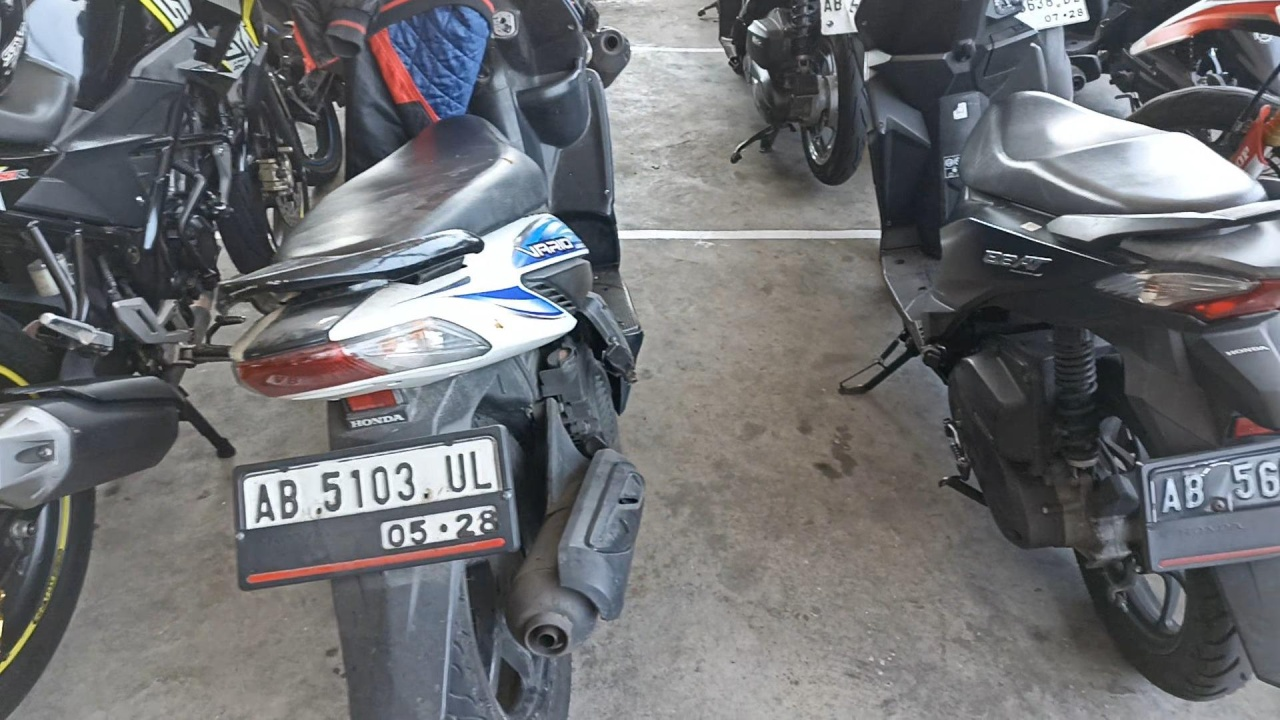plate: (239, 433, 509, 584)
